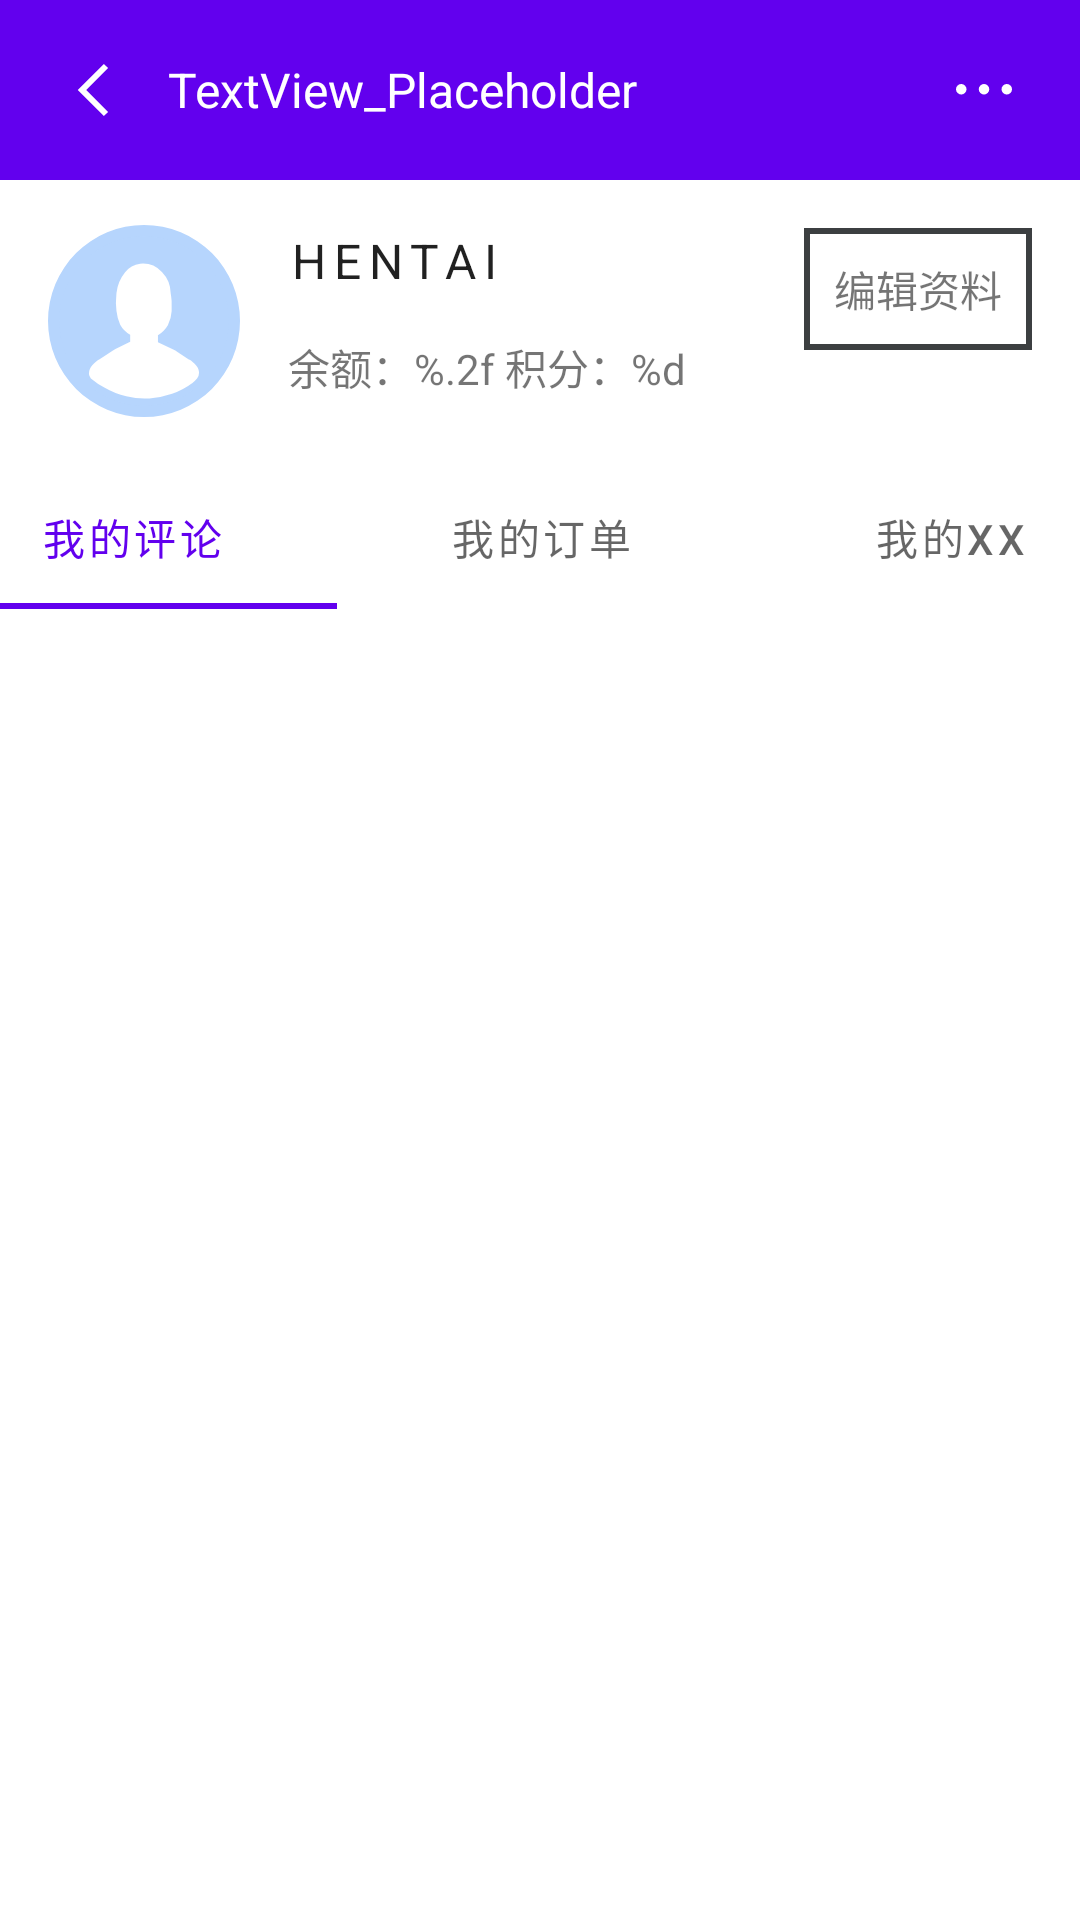

Icon click points for this 1080px x 1920px phone screenshot, format (x,y):
user avatars: (144,321)
